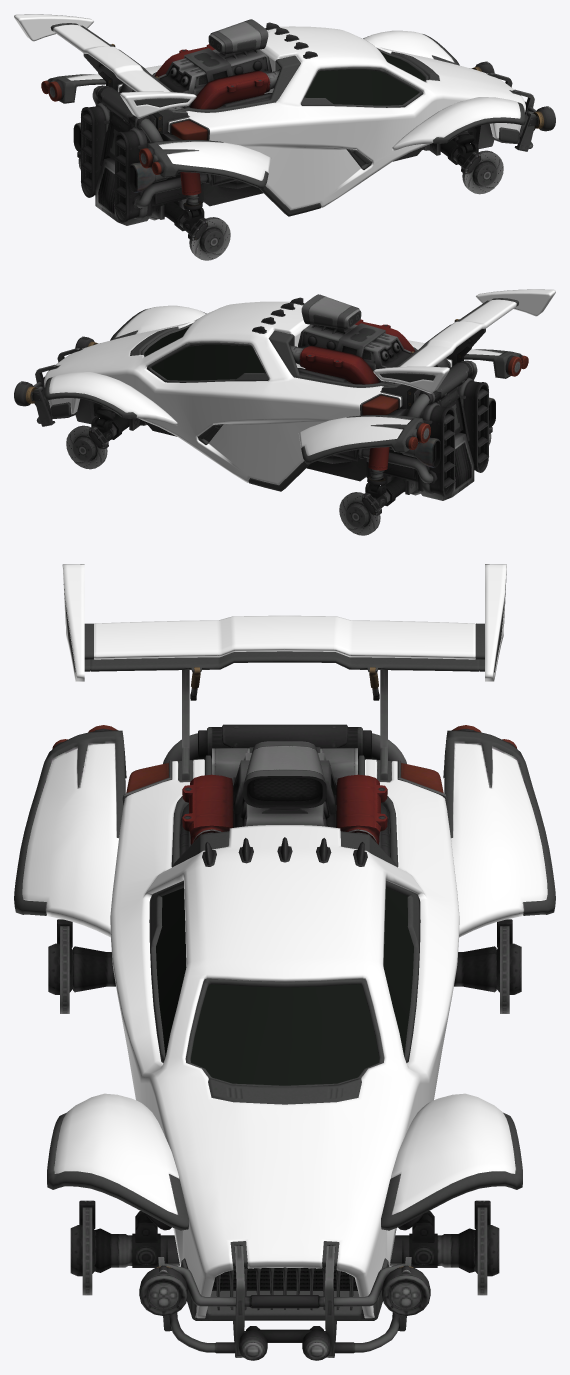
The model's file is octane.glb.
3 renders of one model, top to bottom at view 1: azimuth 30°, elevation 25°; view 2: azimuth 150°, elevation 25°; view 3: azimuth 270°, elevation 25°, orthographic. The views are drawn at different scales.
Parts seen in each view (by area): view 1: Octane_Body, Octane_Chassis; view 2: Octane_Body, Octane_Chassis; view 3: Octane_Body, Octane_Chassis.
Boxes of the visible parts, x1,y1,x2,y2 form: Octane_Body: [14, 14, 525, 216]; Octane_Chassis: [41, 19, 555, 260]; Octane_Body: [44, 289, 555, 491]; Octane_Chassis: [14, 294, 528, 535]; Octane_Body: [14, 564, 555, 1320]; Octane_Chassis: [48, 667, 521, 1360].
Size of the model in its own units: 1.4 by 0.5549 by 0.7256.
Materials: 2 (2 with a texture image).
